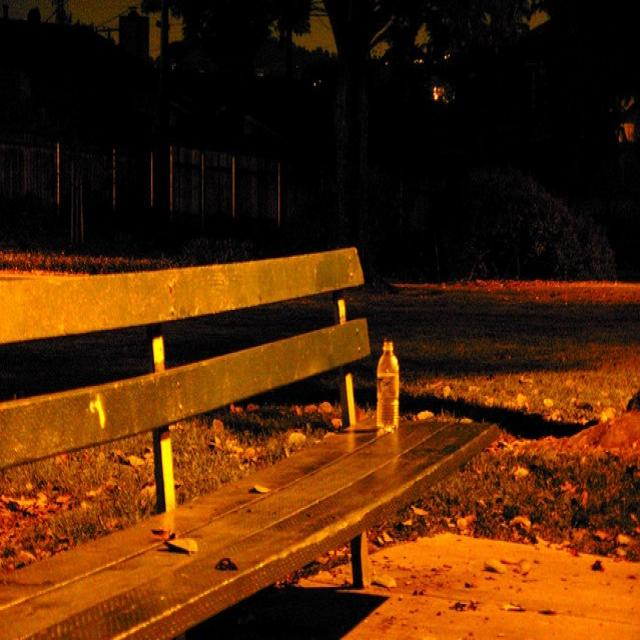Bottle: (368, 315, 424, 495)
chair: (0, 207, 479, 640)
